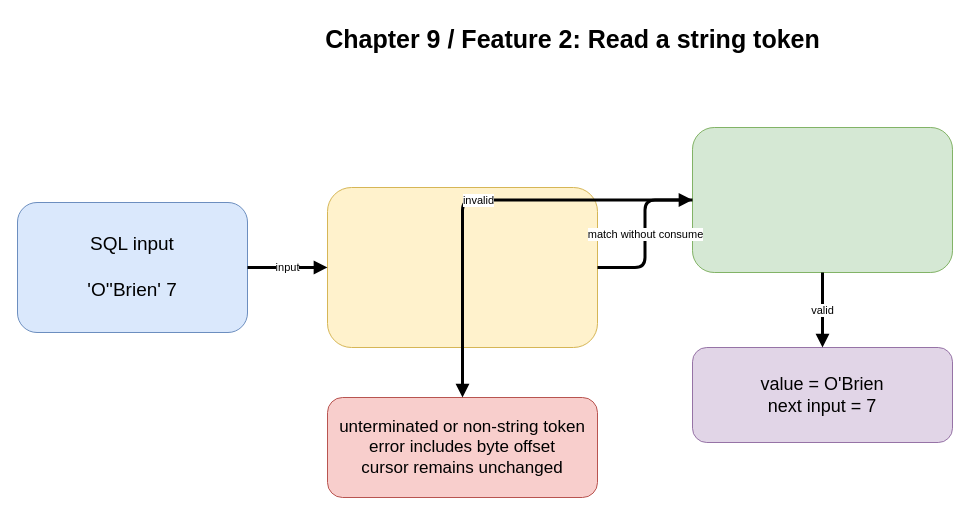
The diagram is 980 pixels wide and 515 high, and some of its shapes have lost their labels. Each missing label, with the box of its shape:
EatStringConstant decode doubled quote consume through close: (692, 126, 952, 272)
MatchStringConstant skip whitespace find closing quote leave cursor unchanged: (326, 186, 598, 348)
